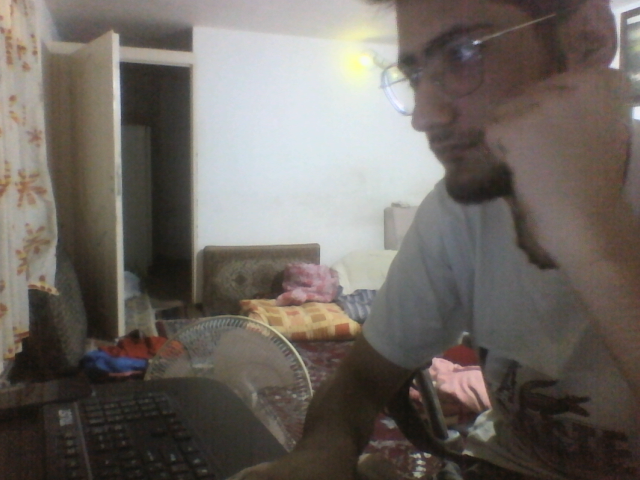attack: (486, 69, 634, 223)
sorat: (395, 1, 614, 207)
